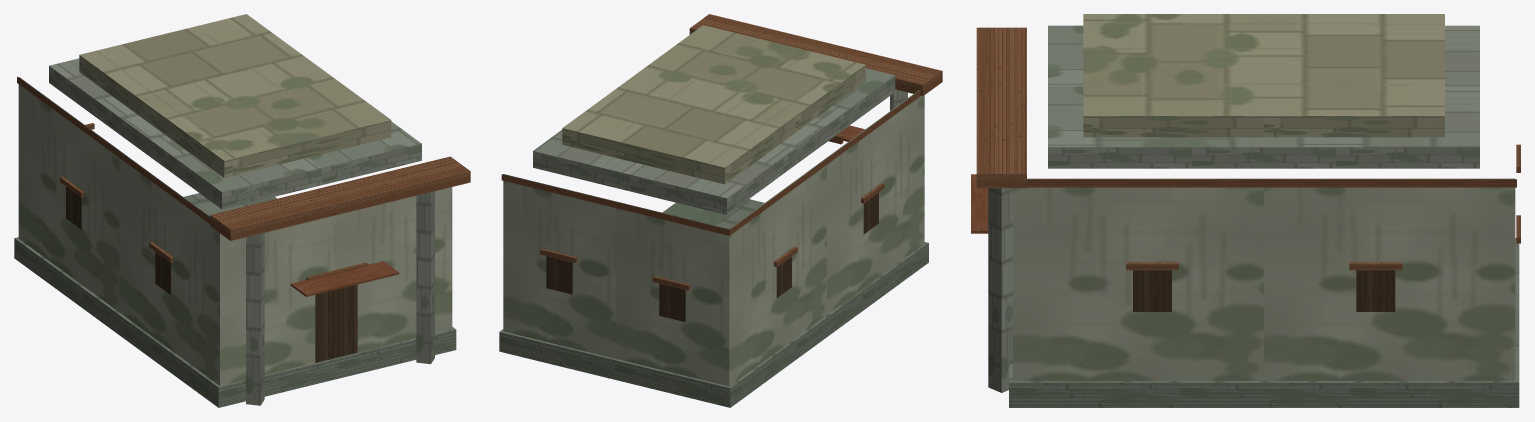
File: ae_jungle_stone_large_hall_lod1.glb
3 renders of one model, left to right at view 1: azimuth 30°, elevation 25°; view 2: azimuth 150°, elevation 25°; view 3: azimuth 270°, elevation 25°, orthographic. The views are drawn at different scales.
Visible parts, largest first — view 1: ae_jungle_stone_large_hall_lod1; view 2: ae_jungle_stone_large_hall_lod1; view 3: ae_jungle_stone_large_hall_lod1.
Part boxes in pixels (x1,y1,x2,y2): ae_jungle_stone_large_hall_lod1: (14, 14, 470, 407); ae_jungle_stone_large_hall_lod1: (499, 14, 942, 407); ae_jungle_stone_large_hall_lod1: (971, 14, 1520, 407).
Size of the model in its own units: 6.2 by 5.35 by 9.85.
Materials: 1 (1 with a texture image).
